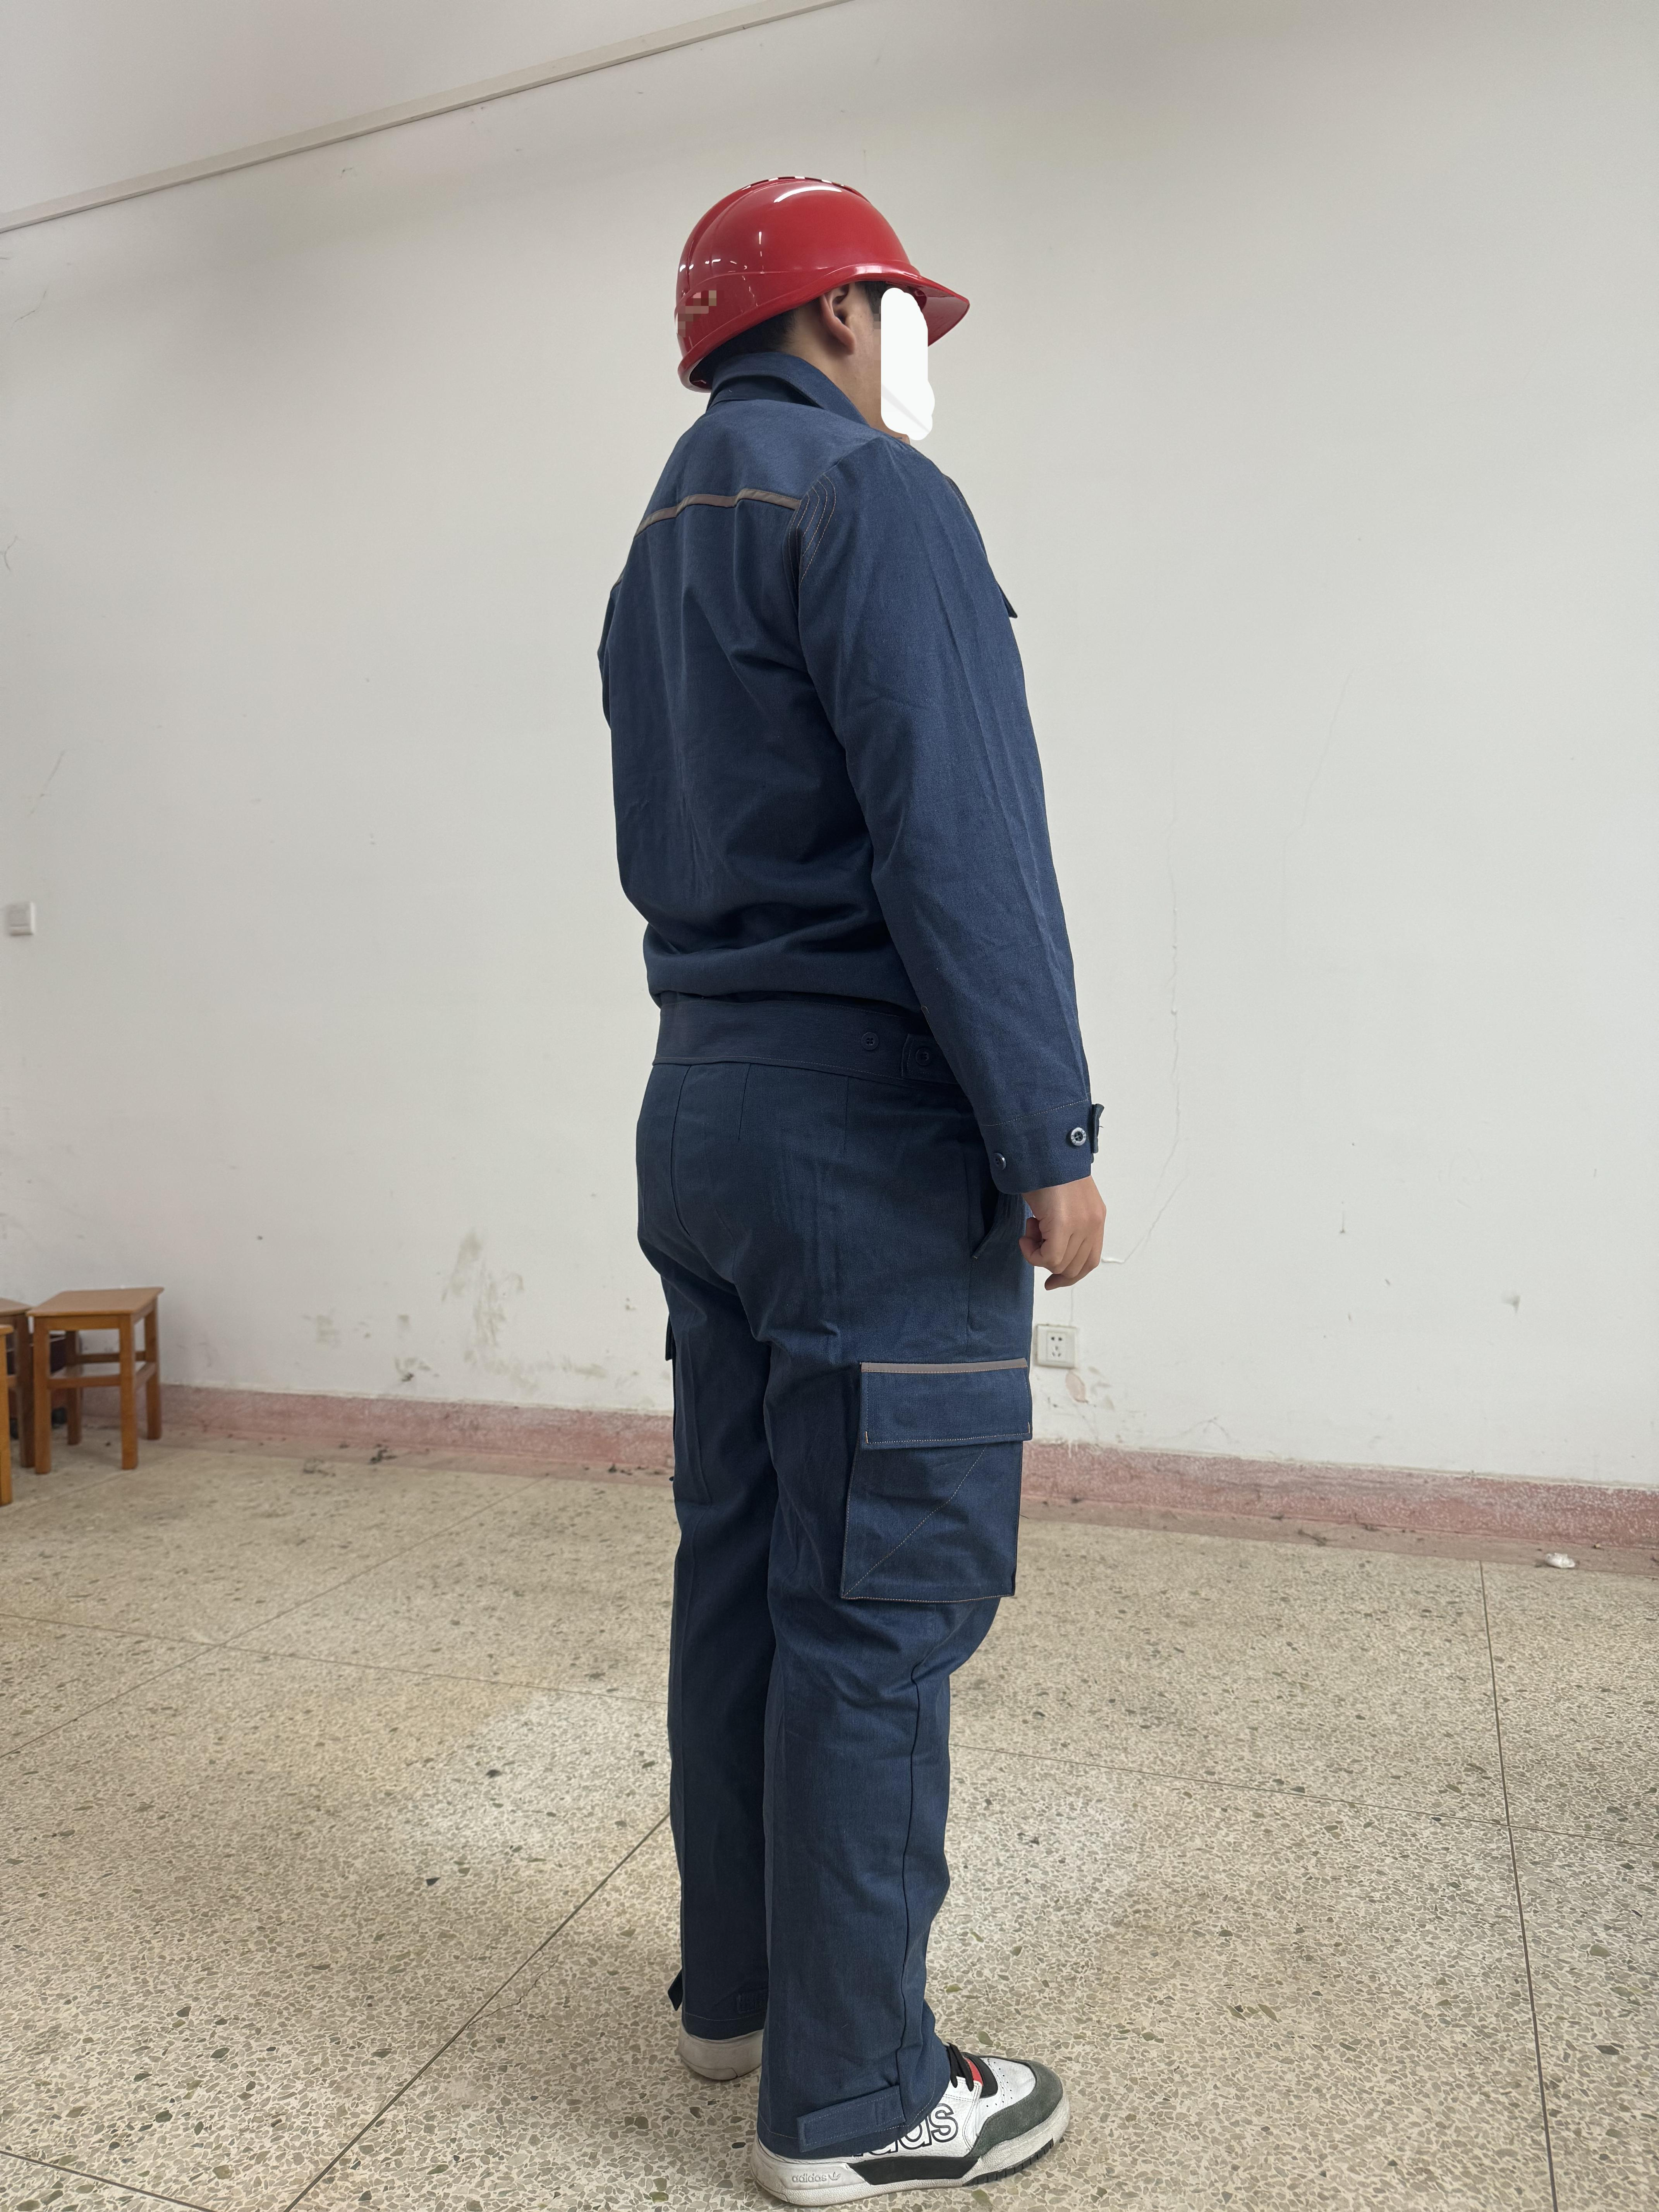halt: (664, 174, 971, 415)
noear: (786, 265, 897, 361)
